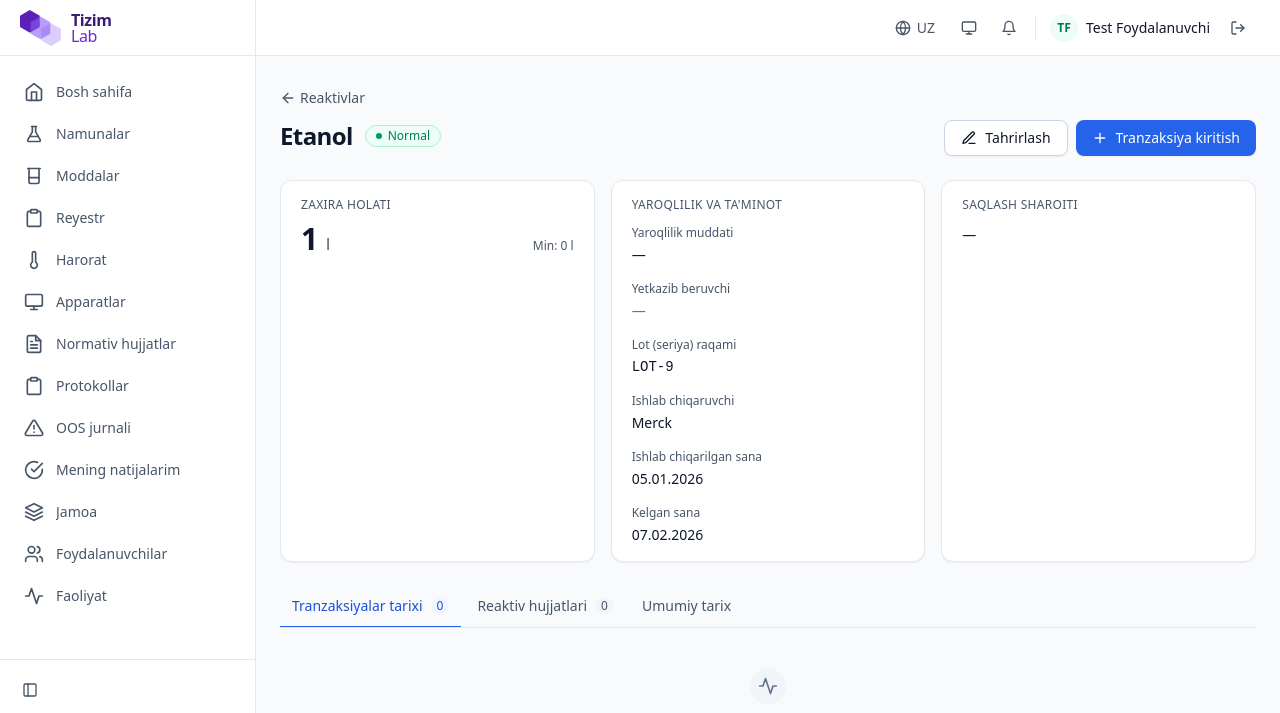
Test: P18: yagona tarix (HistoryTimeline) › reaktiv tarixi: kirim va AI diff (reaktiv yorliqlari)
Check: the text "LOT-9" is shown, box [632, 359, 674, 375]
Check: the text "Merck" is shown, box [632, 413, 672, 432]
Click the tab "Umumiy tarix".
click(686, 607)  # box [630, 586, 743, 628]
(page scrolled)
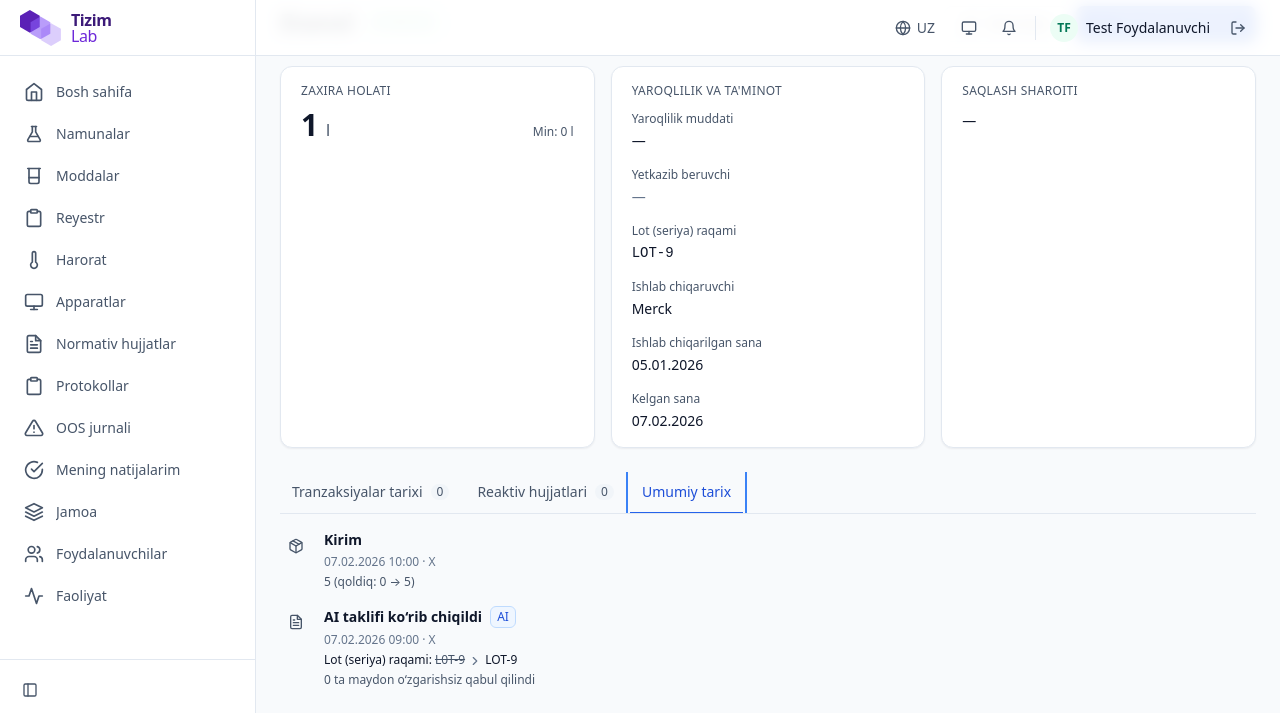
Check: the text "Kirim" is shown, box [324, 530, 362, 550]
Check: the text "5 (qoldiq: 0 → 5)" is shown, box [324, 573, 414, 590]
Check: the text "Lot (seriya) raqami:" is shown, box [324, 651, 432, 668]
